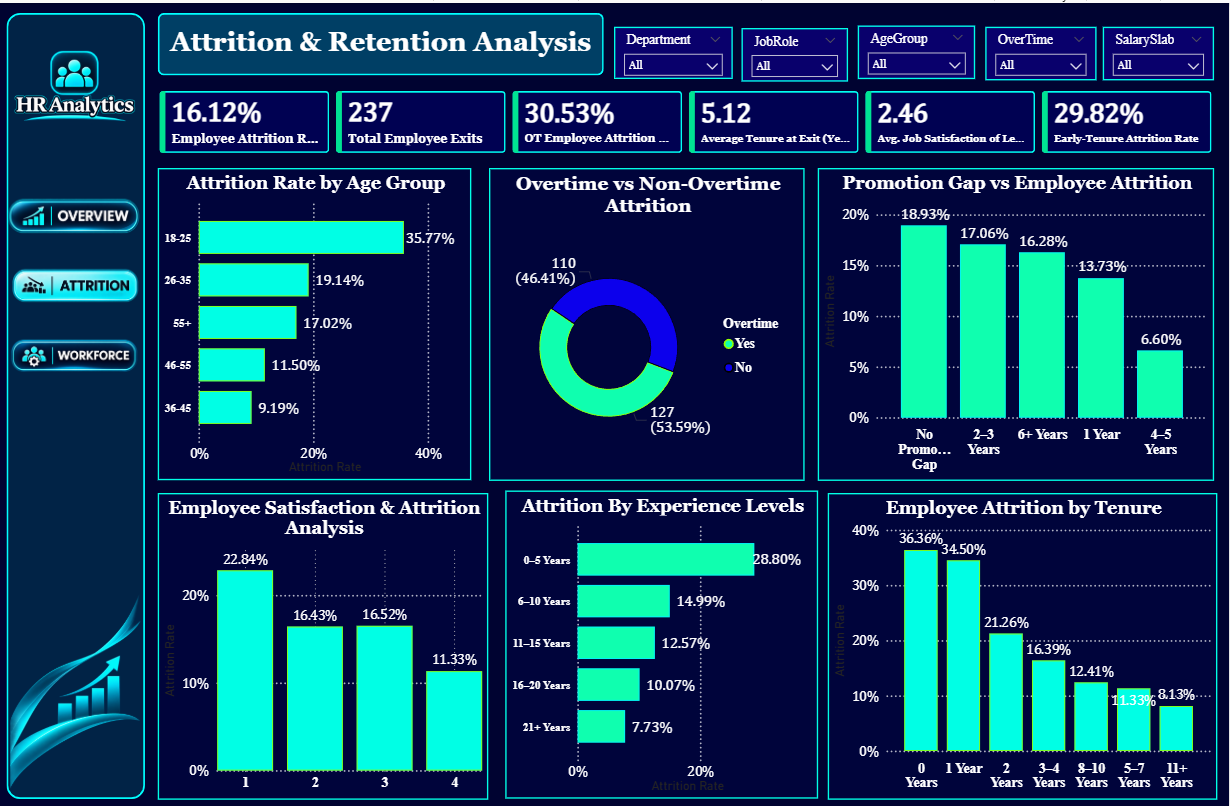

This screenshot's page, from the dashboard's own definition file:
{"tool":"powerbi","page":{"name":"ATTRITION","canvas":[1450,950],"ordinal":1},"visuals":[{"type":"shape","box":[186.6,12.3,525.7,73.5],"z":0},{"type":"textbox","box":[186.6,21.8,525.7,64],"z":1000},{"type":"cardVisual","fields":{"Data":["HR_Analytics.Attrition Rate","HR_Analytics.Attrition Count","HR_Analytics.Overtime Attrition Rate","HR_Analytics.Average Tenure of Leavers","HR_Analytics.Average Job Satisfaction of Leavers","HR_Analytics.Early Tenure Attrition Rate"]},"box":[172.5,86.4,1277.5,107.1],"z":2000},{"type":"barChart","title":"Attrition Rate by Age Group","fields":{"Category":["HR_Analytics.AgeGroup"],"Y":["HR_Analytics.Attrition Rate"]},"box":[187.1,194.5,369.8,368.3],"z":3000},{"type":"clusteredColumnChart","title":"Employee Attrition by Tenure","fields":{"Y":["HR_Analytics.Attrition Rate"],"Category":["HR_Analytics.Tenure Group"]},"box":[977,577,459,361.7],"z":4000},{"type":"donutChart","title":"Overtime vs Non-Overtime Attrition","fields":{"Category":["HR_Analytics.OverTime"],"Y":["HR_Analytics.Attrition Count"]},"box":[577,194.1,372.3,368.8],"z":5000},{"type":"clusteredColumnChart","title":"Employee Satisfaction & Attrition Analysis","fields":{"Y":["HR_Analytics.Attrition Rate"],"Category":["HR_Analytics.JobSatisfaction"]},"box":[187,577,389.9,361.7],"z":6000},{"type":"clusteredColumnChart","title":"Promotion Gap vs Employee Attrition","fields":{"Y":["HR_Analytics.Attrition Rate"],"Category":["HR_Analytics.Promotion Gap Group"]},"box":[965.1,194.1,467.6,368.8],"z":7000},{"type":"barChart","title":"Attrition By Experience Levels","fields":{"Y":["HR_Analytics.Attrition Rate"],"Category":["HR_Analytics.Experience Group"]},"box":[596.4,575.2,368.8,363.5],"z":8000},{"type":"slicer","fields":{"Values":["HR_Analytics.Department"]},"box":[724.9,28,140,61.9],"z":9000},{"type":"slicer","fields":{"Values":["HR_Analytics.JobRole"]},"box":[875.2,29.5,125.2,63.4],"z":10000},{"type":"slicer","fields":{"Values":["HR_Analytics.AgeGroup"]},"box":[1012.2,26.5,138.5,63.4],"z":11000},{"type":"slicer","fields":{"Values":["HR_Analytics.OverTime"]},"box":[1162,28,131.1,63.4],"z":12000},{"type":"slicer","fields":{"Values":["HR_Analytics.SalarySlab"]},"box":[1301,28,131.1,63.4],"z":13000},{"type":"shape","box":[9.3,12.4,163.2,926.5],"z":14000},{"type":"image","box":[12.1,18.1,155.4,161.5],"z":15000},{"type":"image","box":[12.1,374.3,153.9,83],"z":16000},{"type":"image","box":[13.6,670.1,153.9,279.2],"z":17000},{"type":"image","box":[9.1,212.8,158.5,78.5],"z":18000},{"type":"image","box":[13.6,291.3,153.9,83],"z":19000}]}

Visuals, with their boxes in screenshot pixels (x1, y1, x2, y2), scaled from the page's 1450x950 canvas onto the 1230x806 screenshot:
shape: {"x1": 158, "y1": 10, "x2": 604, "y2": 73}
textbox: {"x1": 158, "y1": 18, "x2": 604, "y2": 73}
cardVisual - HR_Analytics.Attrition Rate x HR_Analytics.Attrition Count: {"x1": 146, "y1": 73, "x2": 1229, "y2": 164}
"Attrition Rate by Age Group" barChart: {"x1": 159, "y1": 165, "x2": 472, "y2": 477}
"Employee Attrition by Tenure" clusteredColumnChart: {"x1": 829, "y1": 490, "x2": 1218, "y2": 796}
"Overtime vs Non-Overtime Attrition" donutChart: {"x1": 489, "y1": 165, "x2": 805, "y2": 478}
"Employee Satisfaction & Attrition Analysis" clusteredColumnChart: {"x1": 159, "y1": 490, "x2": 489, "y2": 796}
"Promotion Gap vs Employee Attrition" clusteredColumnChart: {"x1": 819, "y1": 165, "x2": 1215, "y2": 478}
"Attrition By Experience Levels" barChart: {"x1": 506, "y1": 488, "x2": 819, "y2": 796}
slicer - HR_Analytics.Department: {"x1": 615, "y1": 24, "x2": 734, "y2": 76}
slicer - HR_Analytics.JobRole: {"x1": 742, "y1": 25, "x2": 849, "y2": 79}
slicer - HR_Analytics.AgeGroup: {"x1": 859, "y1": 22, "x2": 976, "y2": 76}
slicer - HR_Analytics.OverTime: {"x1": 986, "y1": 24, "x2": 1097, "y2": 78}
slicer - HR_Analytics.SalarySlab: {"x1": 1104, "y1": 24, "x2": 1215, "y2": 78}
shape: {"x1": 8, "y1": 11, "x2": 146, "y2": 797}
image: {"x1": 10, "y1": 15, "x2": 142, "y2": 152}
image: {"x1": 10, "y1": 318, "x2": 141, "y2": 388}
image: {"x1": 12, "y1": 569, "x2": 142, "y2": 805}
image: {"x1": 8, "y1": 181, "x2": 142, "y2": 247}
image: {"x1": 12, "y1": 247, "x2": 142, "y2": 318}
